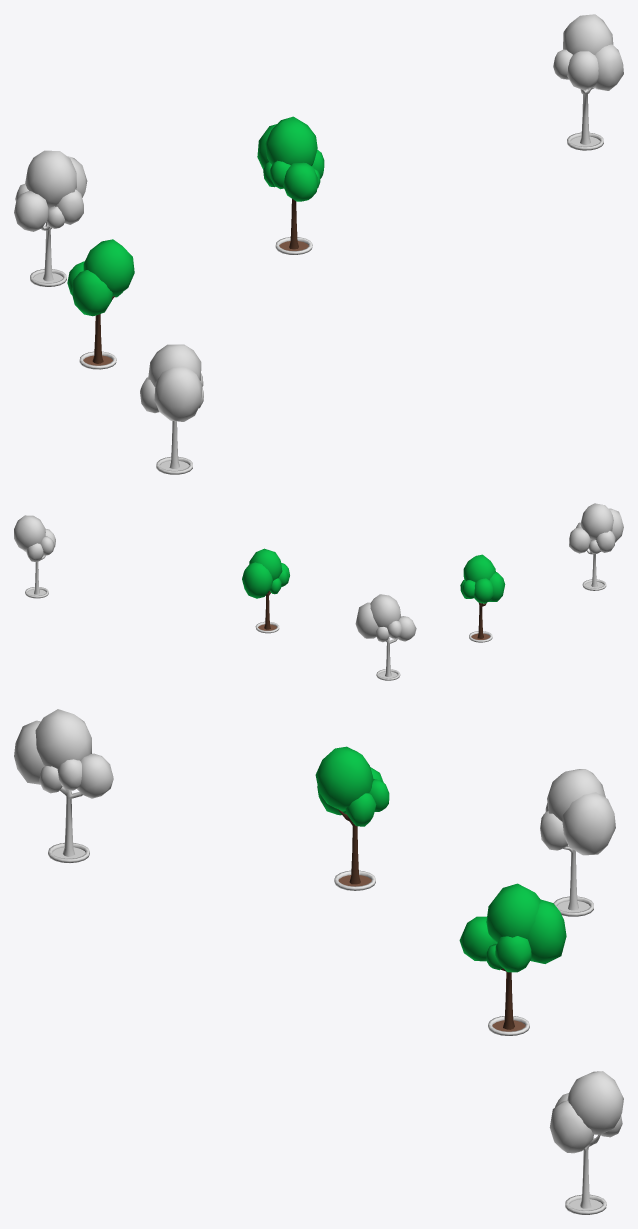
Rendered from Trees.fbx.
The picture shows the model from 3 angles, top to bottom: view 1: azimuth 30°, elevation 25°; view 2: azimuth 150°, elevation 25°; view 3: azimuth 270°, elevation 25°; orthographic projection. The views are drawn at different scales.
Visible parts, largest first — view 1: Tree.007, Tree.004, Tree.009, Tree.006, Tree.001; view 2: Tree.007, Tree.006, Tree.004, Tree.001, Tree.009; view 3: Tree.004, Tree.006, Tree.007, Tree.009, Tree.001.
Boxes of the visible parts, x1,y1,x2,y2 form: Tree.007: [14, 150, 87, 286]; Tree.004: [257, 116, 324, 254]; Tree.009: [553, 14, 623, 150]; Tree.006: [140, 344, 203, 474]; Tree.001: [67, 239, 134, 369]; Tree.007: [355, 594, 416, 680]; Tree.006: [569, 503, 623, 590]; Tree.004: [242, 548, 289, 633]; Tree.001: [460, 554, 505, 642]; Tree.009: [14, 515, 55, 598]; Tree.004: [459, 883, 566, 1035]; Tree.006: [14, 709, 113, 862]; Tree.007: [540, 769, 615, 916]; Tree.009: [549, 1071, 623, 1214]; Tree.001: [315, 746, 389, 890].
Size of the model in its own units: 2067 by 352 by 1382.
